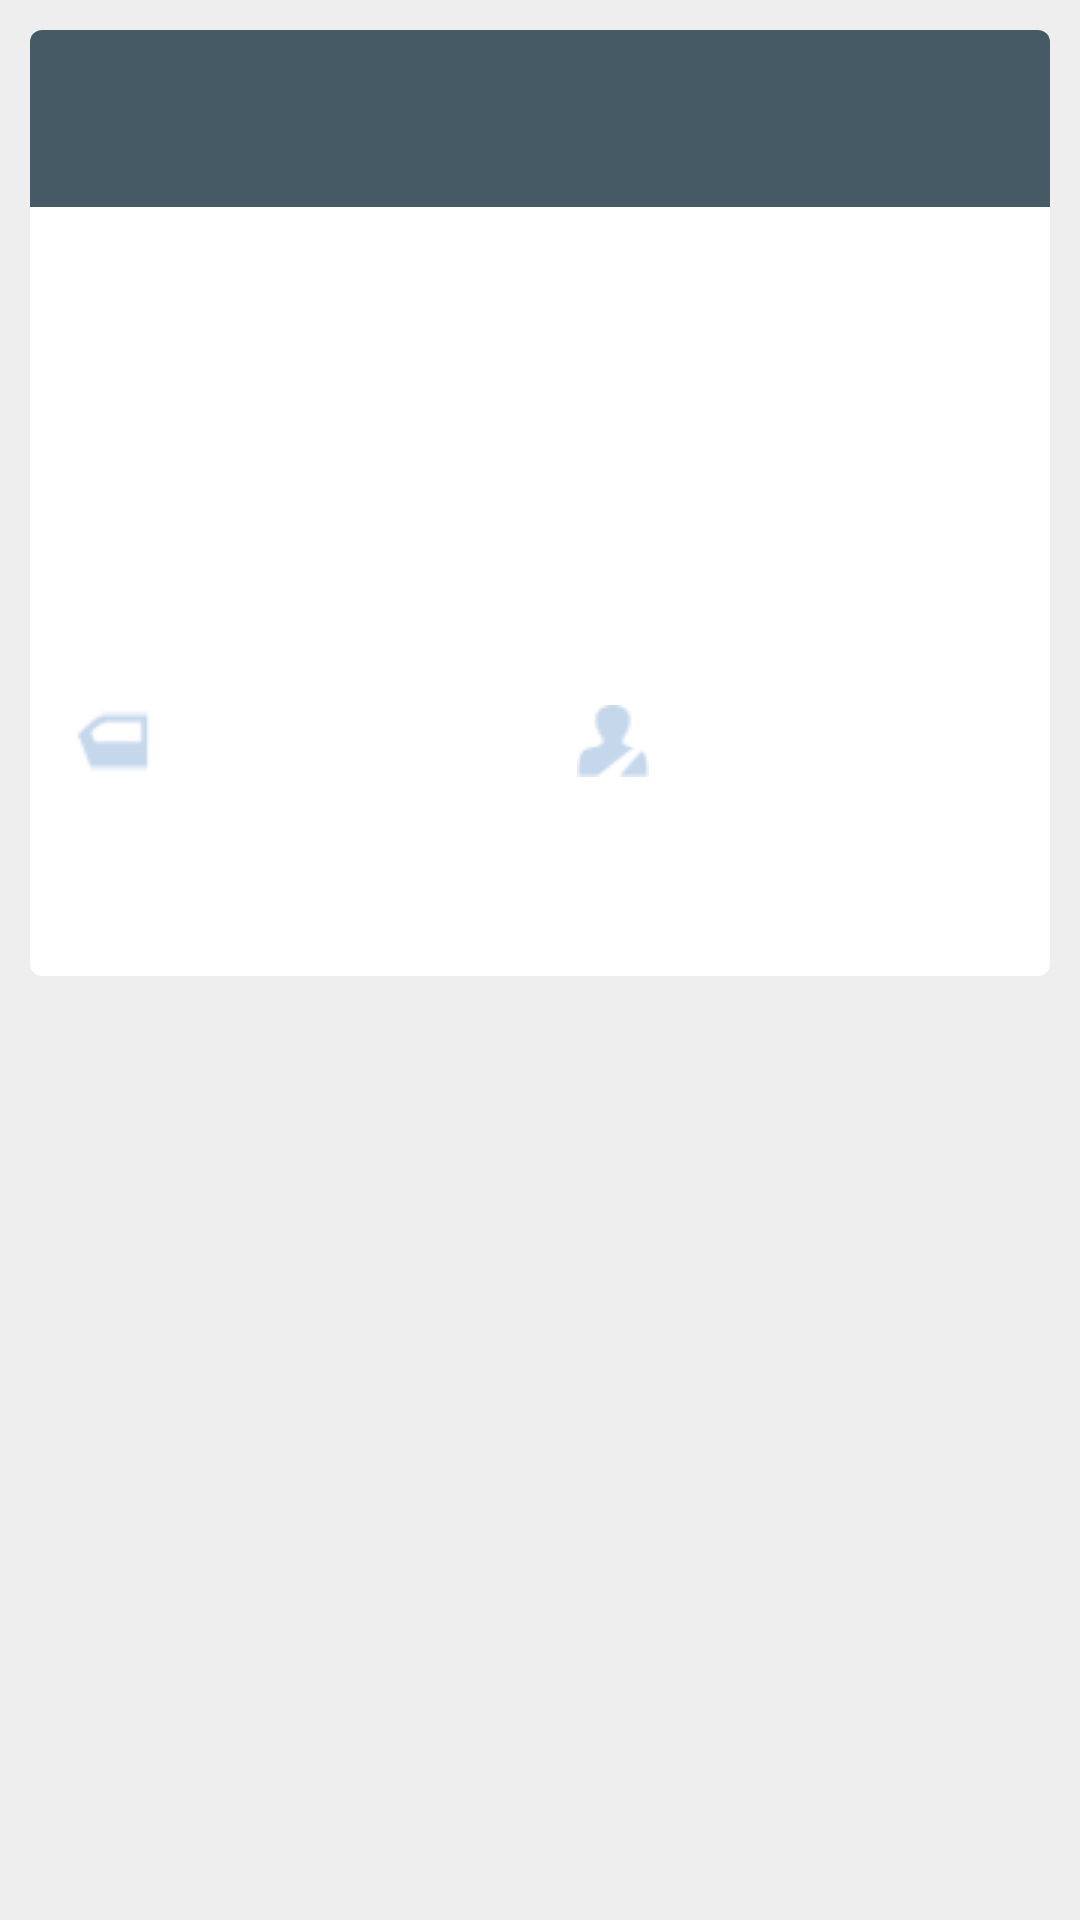

Where icons sit on this 1080x1920 app screen, as (x1, y1, x2, y2):
doors: (78, 714, 148, 768)
seats: (577, 705, 647, 777)
